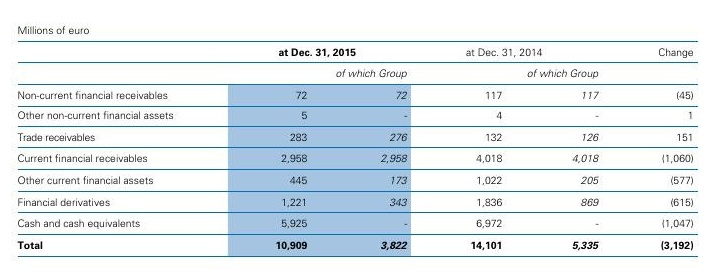table: (0, 0, 719, 272)
